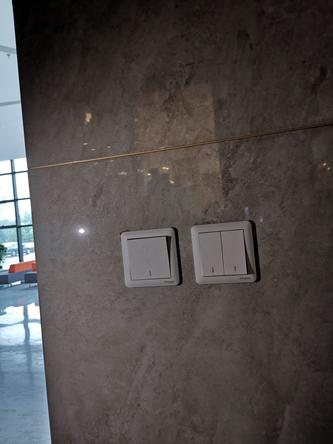switch: (123, 232, 174, 284), (217, 223, 252, 279), (196, 225, 225, 282)
